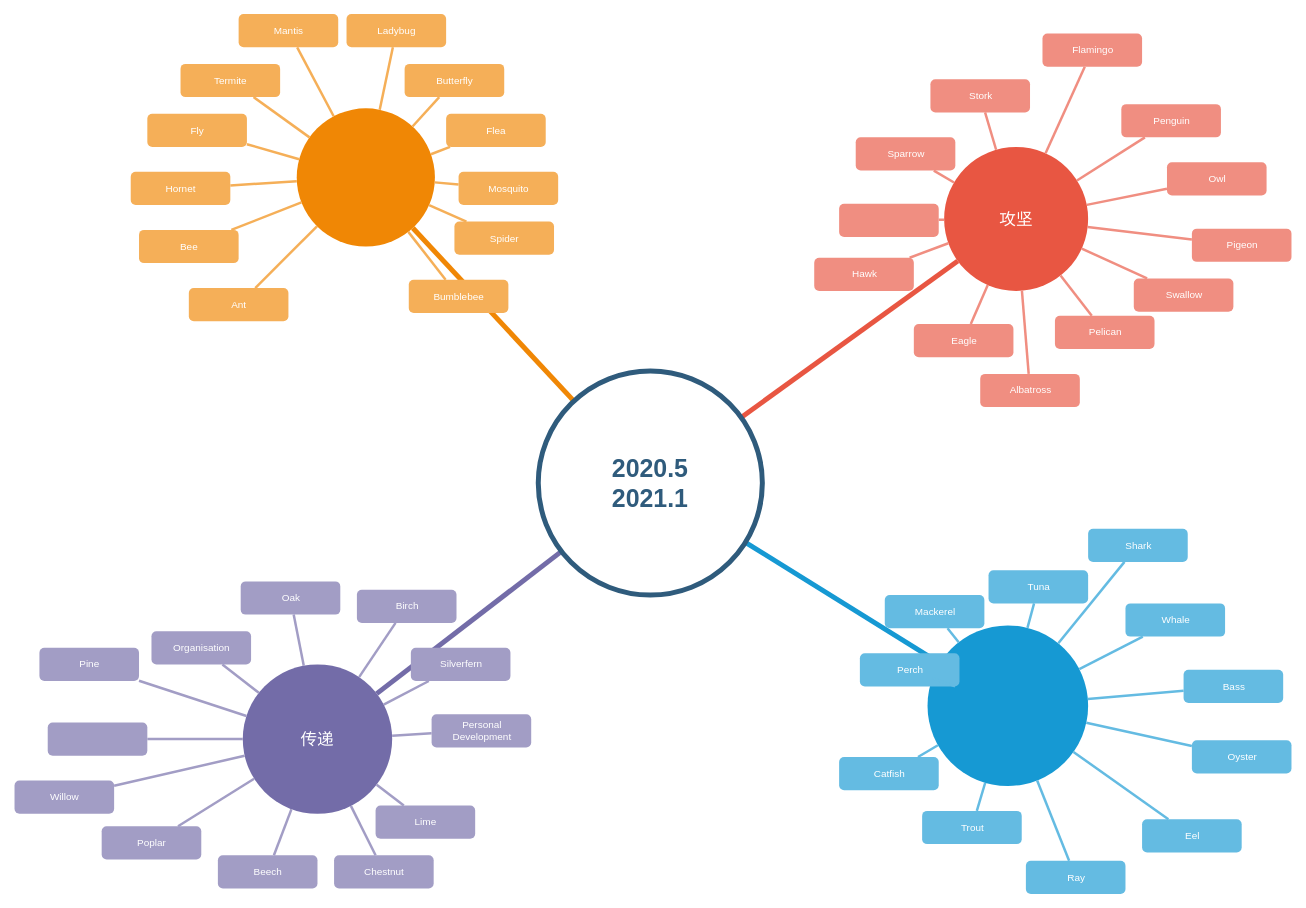
Some shapes in this 1306 by 908 pixel diagram are drawn without their labels. Here are the shapes that lost their labels. From the top down, the box of each, then its label:
(296, 108, 435, 246): 疑难
(839, 203, 938, 237): Falcon
(927, 625, 1088, 786): 架构
(47, 722, 147, 755): Acacia
